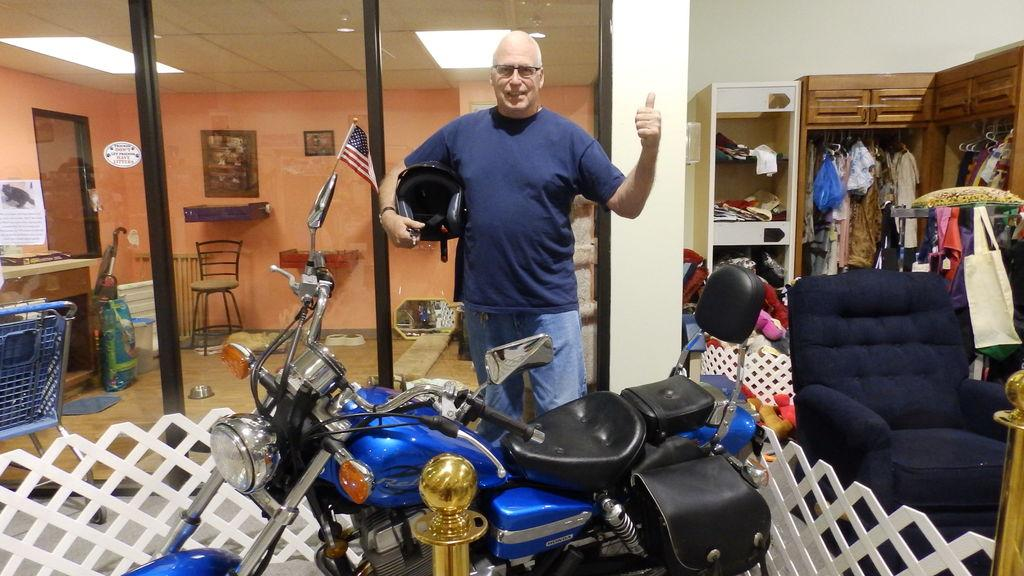helmet: (394, 160, 466, 242)
nohelmet: (488, 30, 546, 119)
